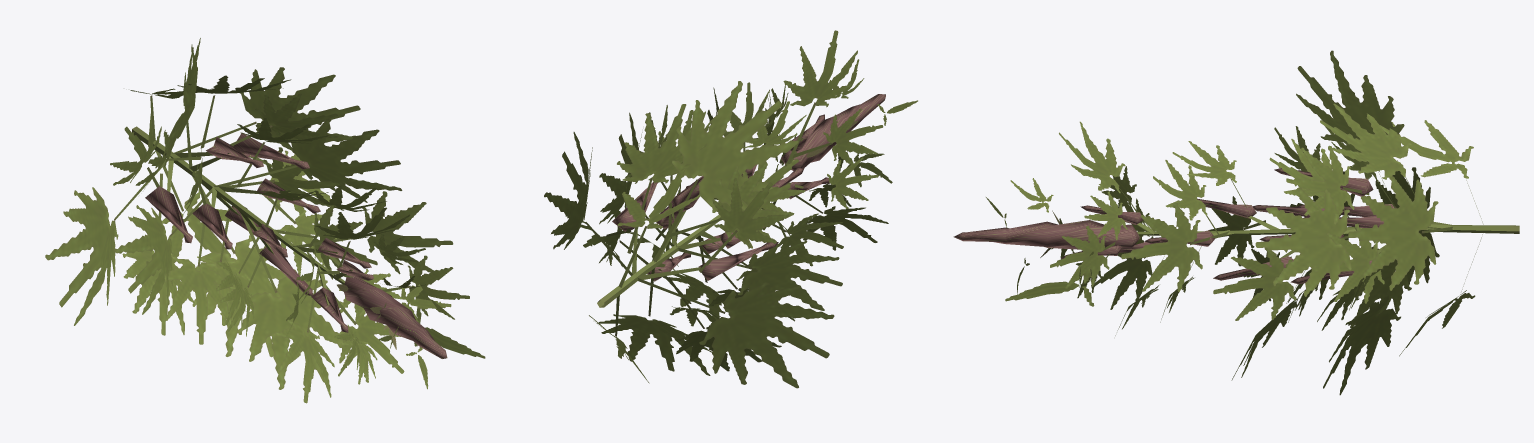
File: p_purple_landrace_flowering_c1_cards.obj
3 renders of one model, left to right at view 1: azimuth 30°, elevation 25°; view 2: azimuth 150°, elevation 25°; view 3: azimuth 270°, elevation 25°, orthographic. The views are drawn at different scales.
Bounding box in the file's own units: 1.51 × 1.47 × 2.12.
1 material, 1 textured.
